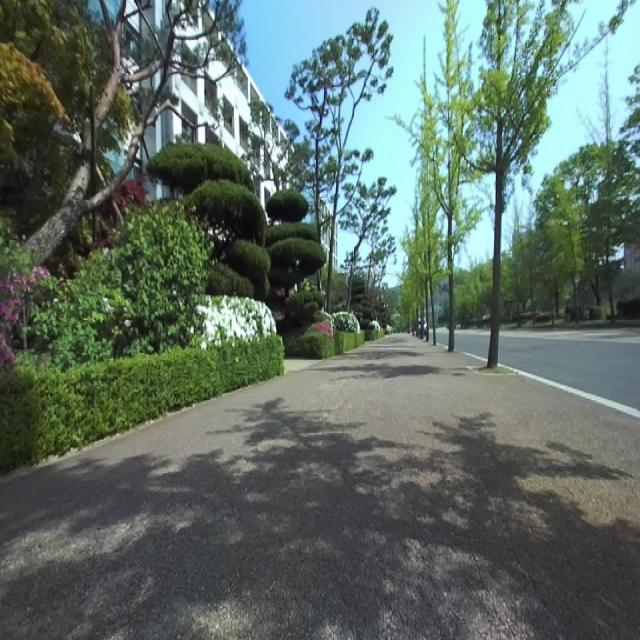sidewalk: (0, 334, 640, 639), (500, 364, 640, 417)
